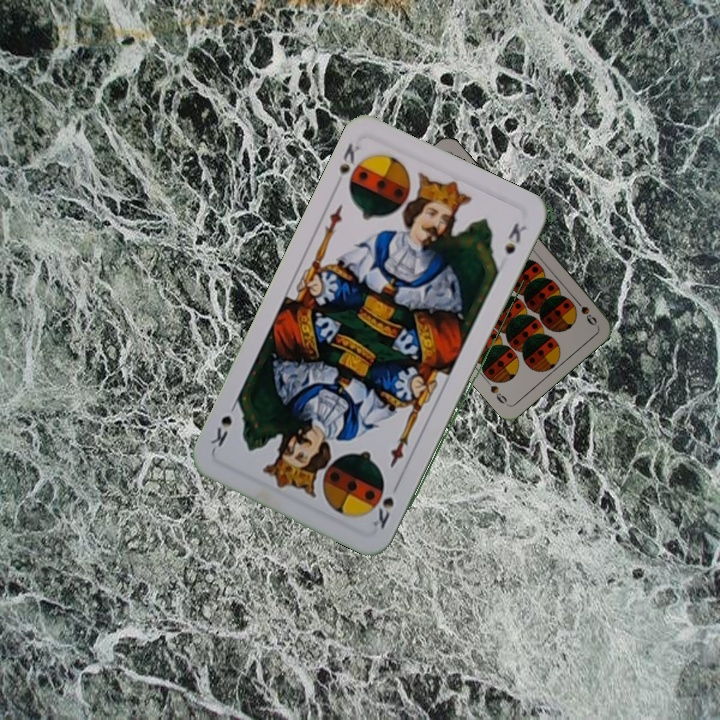S9: (569, 294, 600, 328)
SK: (330, 139, 362, 191), (369, 492, 397, 532)
